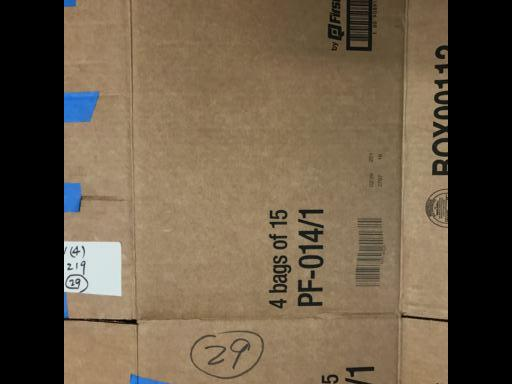cardboard: (69, 5, 448, 384)
